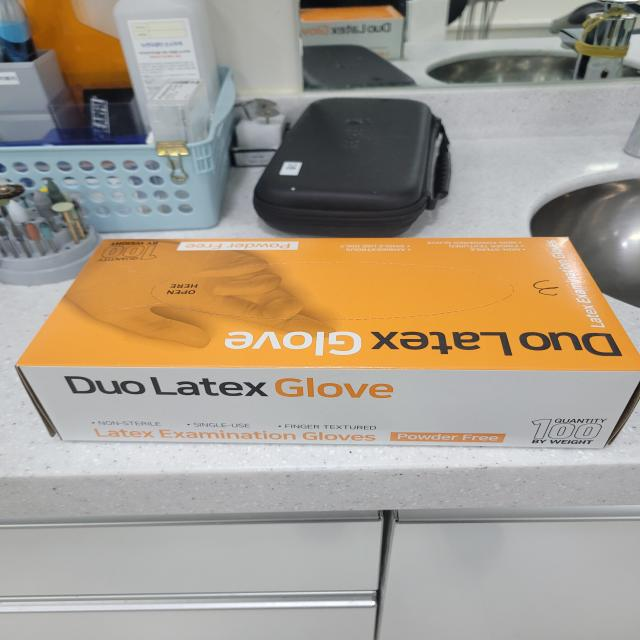glove: (21, 229, 640, 470)
